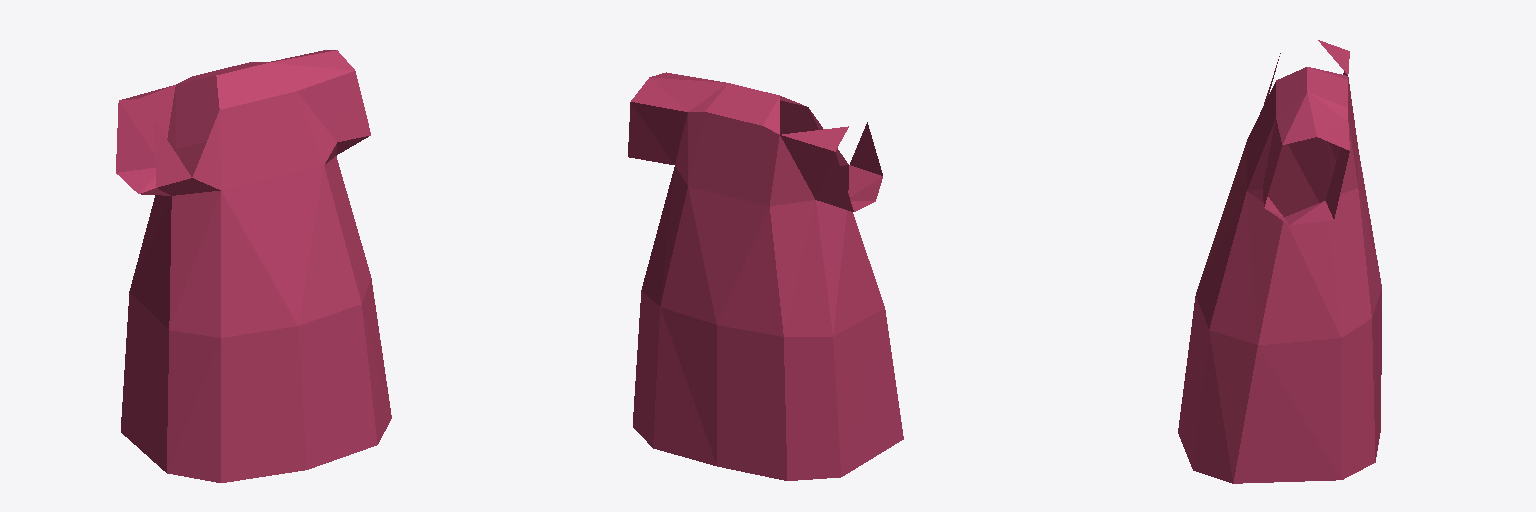
3 renders of one model, left to right at view 1: azimuth 30°, elevation 25°; view 2: azimuth 150°, elevation 25°; view 3: azimuth 270°, elevation 25°, orthographic.
Visible parts, largest first — view 1: mesh0131_002; view 2: mesh0131_002; view 3: mesh0131_002.
Boxes of the visible parts, <box> form: mesh0131_002: <box>116,50,391,482</box>; mesh0131_002: <box>628,72,903,480</box>; mesh0131_002: <box>1178,40,1381,483</box>.
Bounding box in the file's own units: 4.49 × 6.7 × 3.51.
Materials: 1 (1 with a texture image).